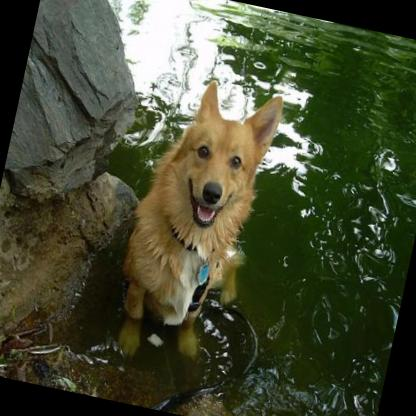Pembroke: (99, 67, 288, 383)
